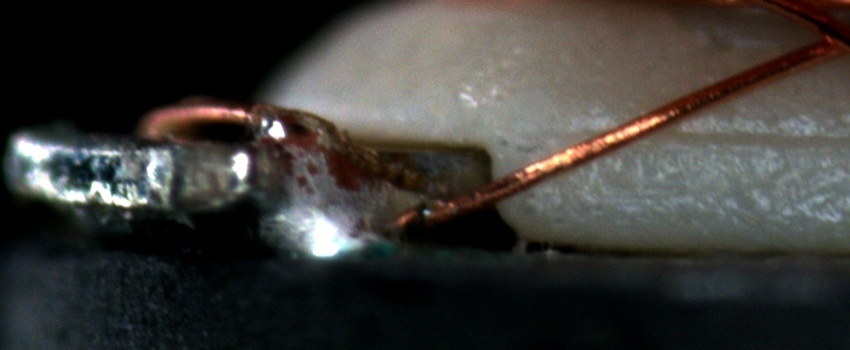CL: (793, 8, 850, 64)
DL: (551, 104, 850, 169)
TE: (135, 92, 277, 134)
